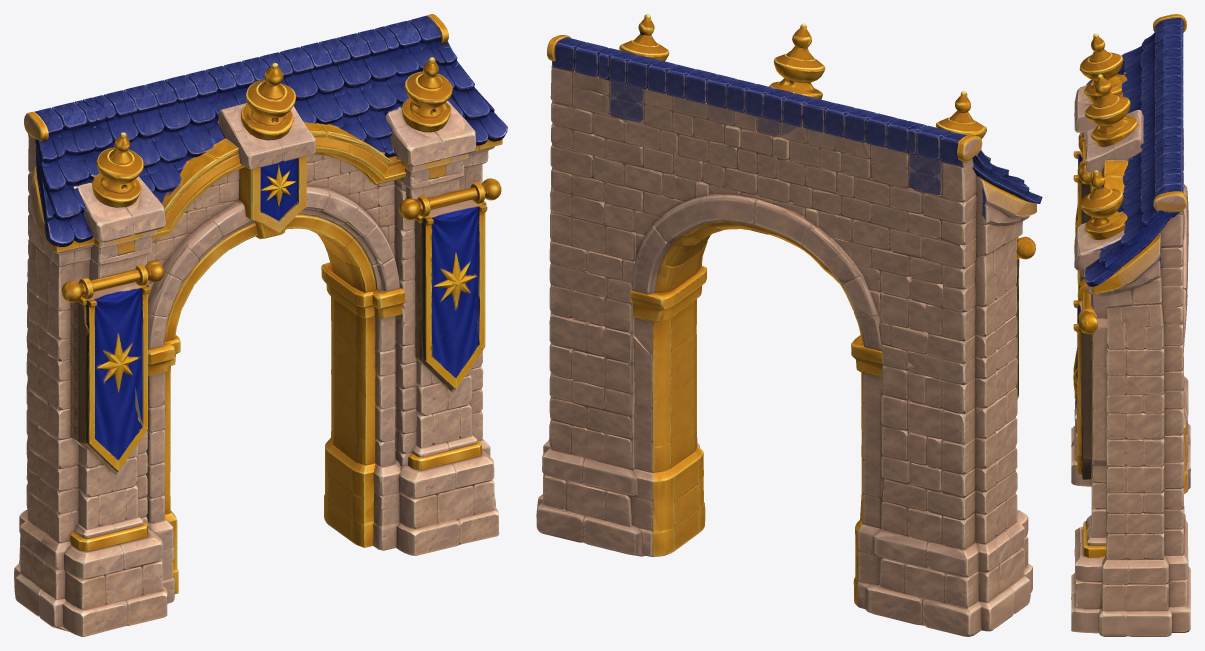
Rendered from iso-gateway.glb.
The picture shows the model from 3 angles, left to right: view 1: azimuth 30°, elevation 25°; view 2: azimuth 150°, elevation 25°; view 3: azimuth 270°, elevation 25°; orthographic projection. The views are drawn at different scales.
Parts seen in each view (by area): view 1: Mesh_0; view 2: Mesh_0; view 3: Mesh_0.
Boxes of the visible parts, <box> form: Mesh_0: <box>14,14,507,636</box>; Mesh_0: <box>536,14,1042,636</box>; Mesh_0: <box>1071,14,1190,636</box>.
Bounding box in the file's own units: 1.78 × 1.9 × 0.4441.
Materials: 1 (1 with a texture image).
